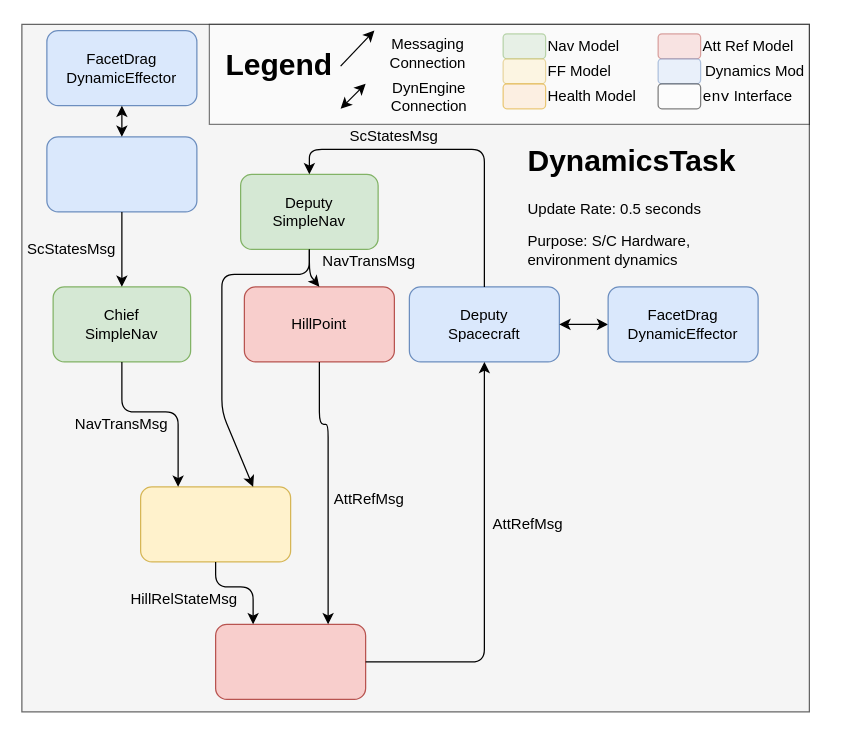
Some shapes in this 848 by 734 pixel diagram are drawn without their labels. The box of each missing label's shape, as (x1, y1, x2, y2) in pixels:
Chief Spacecraft: (46, 136, 197, 212)
HillStateConverter: (139, 486, 291, 562)
HillToAttRef: (214, 623, 366, 699)
